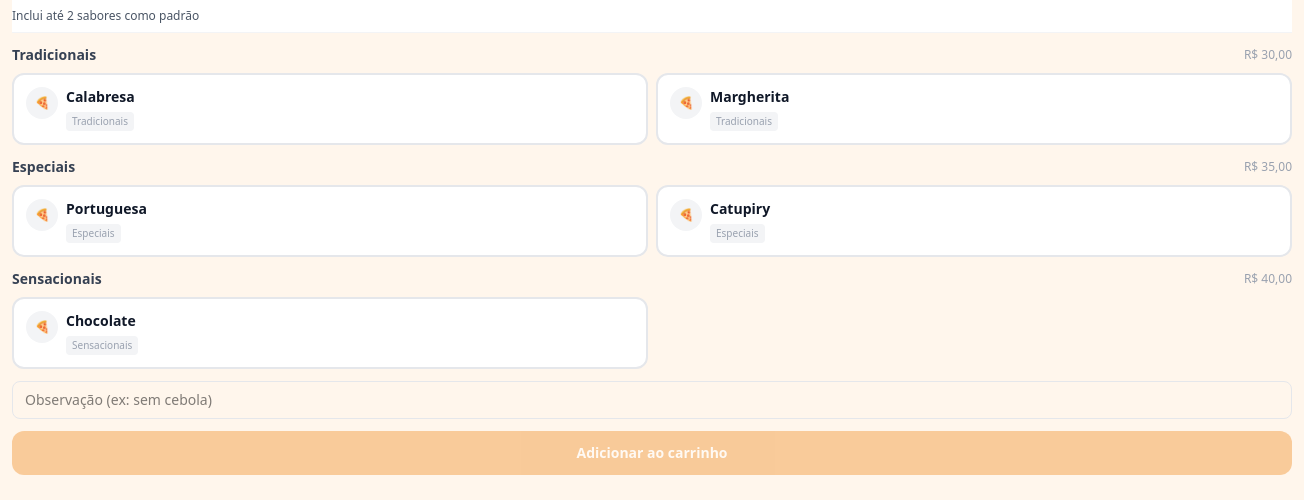
Test: FlavorSelector — US2: labels claros (2 sabores padrão / 3º + R$ 5,00) › 2 sabores: "2 sabores (padrão) • 3º sabor + R$ 5,00"
Step 1. Click the button "🍕 Calabresa Tradicionais" → point(42, 103), box [12, 73, 648, 145]
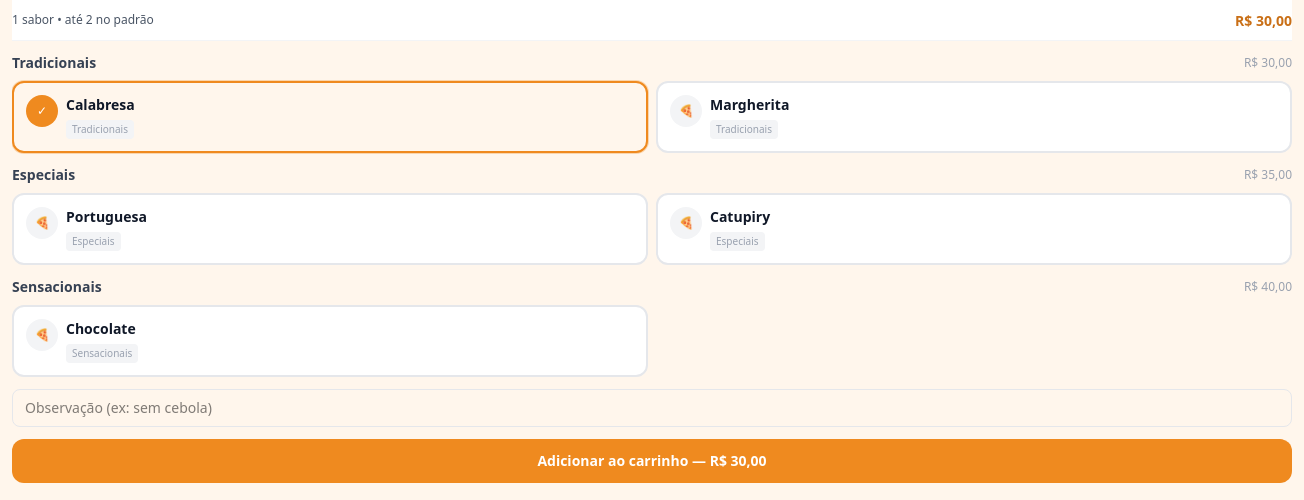
Step 2. Click the button "🍕 Margherita Tradicionais" → point(686, 111), box [656, 81, 1292, 153]
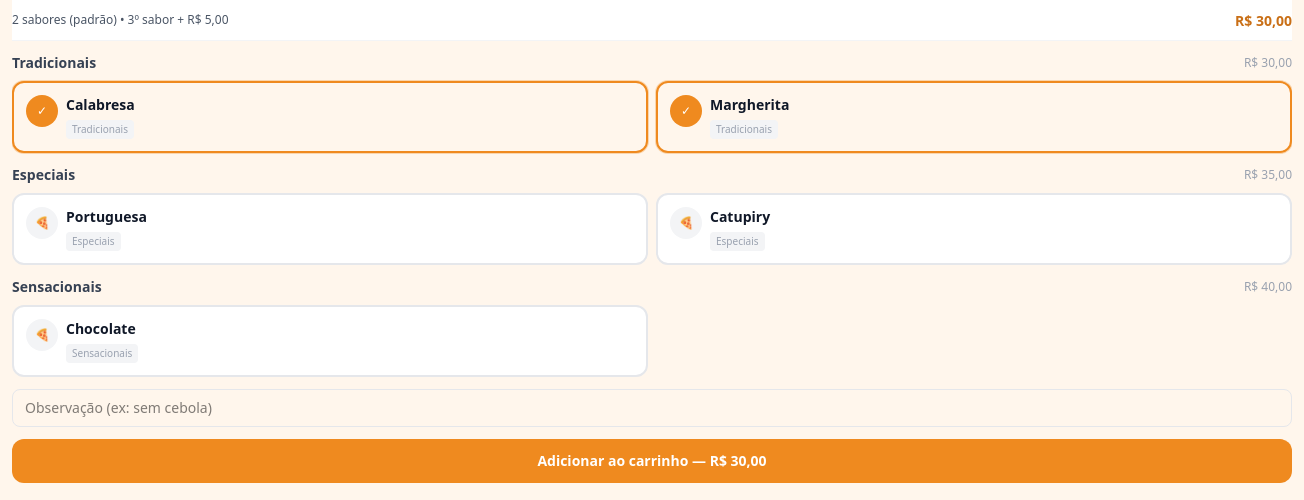
Now the text "2 sabores (padrão) • 3º sabor + R$ 5,00" is shown, box [12, 12, 228, 28]
